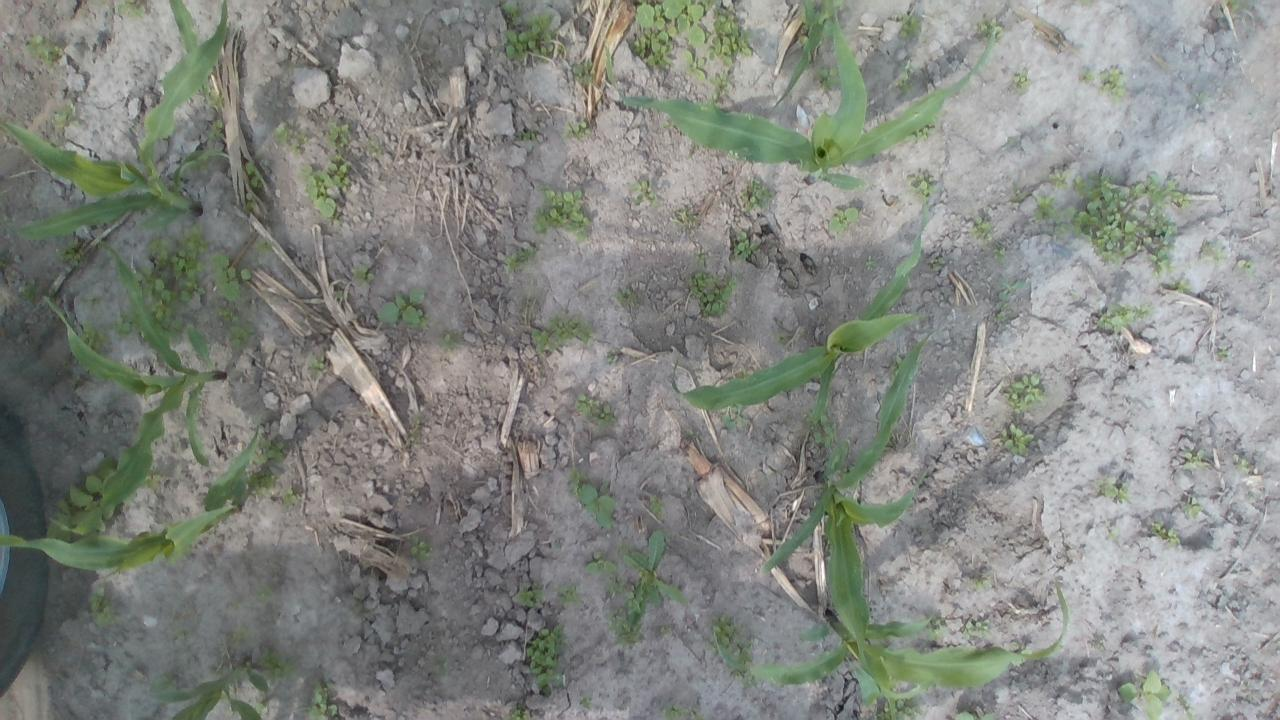Maize: (608, 19, 996, 192), (760, 328, 932, 706), (0, 0, 231, 242), (41, 237, 226, 537), (677, 198, 927, 417), (714, 588, 1067, 709), (0, 424, 264, 574), (774, 0, 842, 111), (152, 659, 268, 720)
Weeds: (42, 456, 134, 546), (1062, 169, 1142, 265), (619, 529, 690, 607), (146, 224, 210, 300), (129, 262, 183, 347), (532, 182, 594, 242), (636, 0, 709, 48), (710, 612, 756, 686), (1135, 204, 1179, 278), (568, 468, 620, 530), (1115, 668, 1176, 720), (504, 14, 567, 62), (704, 12, 754, 67), (526, 624, 564, 696), (530, 314, 596, 354), (687, 269, 738, 318), (1129, 171, 1190, 210), (298, 164, 339, 222), (376, 286, 429, 329), (606, 592, 644, 649), (209, 251, 251, 302), (1094, 302, 1152, 334), (256, 644, 299, 683), (629, 29, 674, 66), (1006, 370, 1044, 413), (992, 422, 1036, 458), (74, 316, 113, 354), (305, 677, 338, 720), (242, 466, 280, 500), (1095, 64, 1127, 104), (805, 408, 837, 448), (1032, 194, 1064, 234), (272, 123, 306, 159), (253, 435, 290, 468), (26, 32, 63, 63), (88, 586, 114, 630), (876, 697, 921, 720), (512, 580, 546, 610), (54, 243, 86, 274), (825, 206, 858, 236), (1094, 476, 1132, 502), (51, 98, 81, 130), (742, 181, 771, 214), (1148, 520, 1182, 548), (502, 246, 537, 271), (816, 64, 844, 93), (720, 404, 750, 431), (584, 551, 616, 576), (996, 275, 1026, 301), (708, 70, 732, 102), (682, 48, 706, 80), (906, 173, 938, 197), (659, 703, 704, 720), (630, 178, 657, 206), (734, 230, 760, 259), (1180, 448, 1210, 473), (560, 118, 594, 140), (224, 326, 256, 349), (569, 56, 595, 84), (975, 18, 1003, 44), (924, 614, 950, 642), (962, 618, 992, 642), (328, 154, 352, 184), (196, 82, 222, 109), (409, 534, 434, 562), (896, 60, 916, 94), (326, 118, 350, 146), (111, 0, 148, 18), (906, 124, 937, 145), (1200, 240, 1227, 264), (110, 308, 134, 334), (243, 160, 263, 189), (498, 0, 522, 24), (573, 393, 596, 418), (150, 672, 180, 690), (592, 403, 616, 425), (899, 15, 921, 39), (1184, 495, 1204, 521), (351, 262, 377, 282), (951, 709, 993, 720), (1048, 167, 1071, 187), (611, 285, 634, 305), (206, 120, 226, 143), (1010, 71, 1034, 90), (670, 208, 695, 226), (974, 216, 992, 240), (253, 582, 276, 600), (214, 305, 238, 322), (239, 192, 259, 212), (22, 282, 40, 304), (558, 586, 578, 605), (255, 238, 274, 258), (1182, 694, 1196, 720), (435, 654, 450, 678), (282, 486, 300, 506), (647, 495, 665, 514), (436, 332, 456, 349), (230, 624, 252, 639), (518, 126, 536, 144), (1234, 456, 1250, 476), (1172, 278, 1192, 294), (504, 708, 530, 720), (308, 352, 326, 369), (995, 302, 1010, 322), (80, 295, 106, 306), (799, 20, 810, 46), (175, 626, 192, 642), (865, 254, 880, 272), (1236, 258, 1254, 273), (606, 576, 622, 592), (1226, 0, 1242, 15), (1218, 344, 1233, 360), (694, 247, 706, 267), (972, 577, 989, 591), (367, 141, 383, 155), (1078, 67, 1092, 82), (931, 255, 946, 268), (578, 696, 592, 709), (334, 288, 349, 300), (994, 248, 1006, 261), (1078, 0, 1094, 7), (606, 354, 614, 364)
